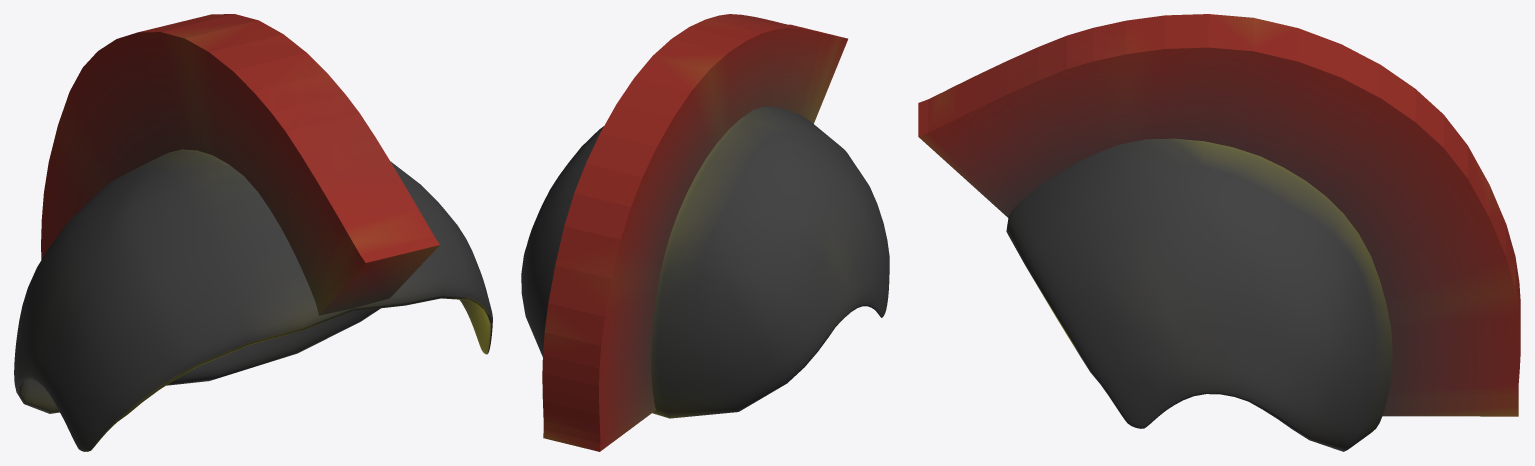
File: Hair_HeadGear.fbx
The picture shows the model from 3 angles, left to right: view 1: azimuth 30°, elevation 25°; view 2: azimuth 150°, elevation 25°; view 3: azimuth 270°, elevation 25°; orthographic projection. The views are drawn at different scales.
Visible parts, largest first — view 1: Hair8_LOD0.mo; view 2: Hair8_LOD0.mo; view 3: Hair8_LOD0.mo.
Boxes of the visible parts, left/top/right/bottom form: Hair8_LOD0.mo: left=14, top=14, right=492, bottom=451; Hair8_LOD0.mo: left=521, top=14, right=889, bottom=451; Hair8_LOD0.mo: left=918, top=14, right=1520, bottom=451.
Size of the model in its own units: 84.01 by 80.38 by 115.
